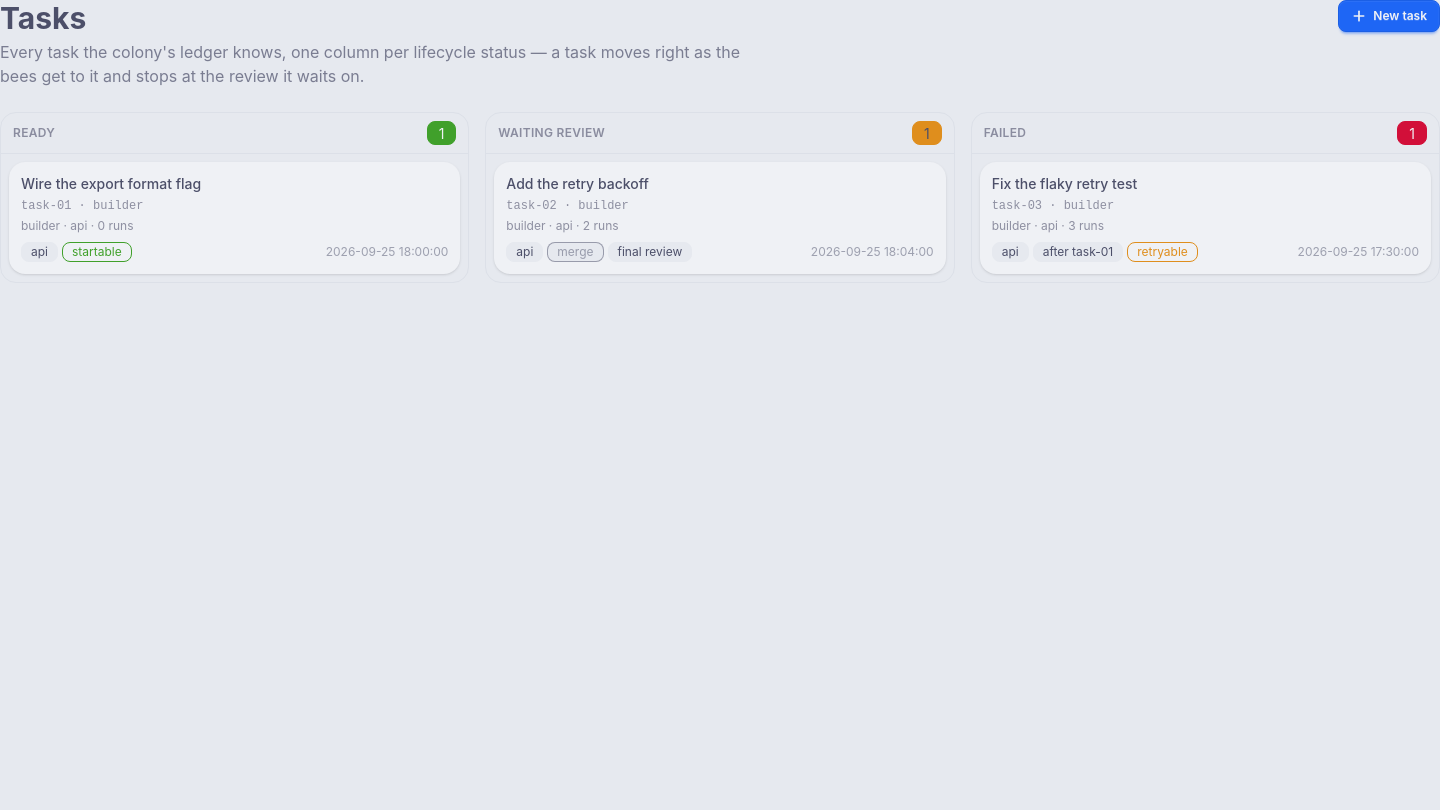
new task drawer › accepts a body with no title, because the server does
Expected: the element named "ready tasks" is shown, [0,112,469,283]
Click the button "New task" at (1389, 16), box [1338,0,1439,32]
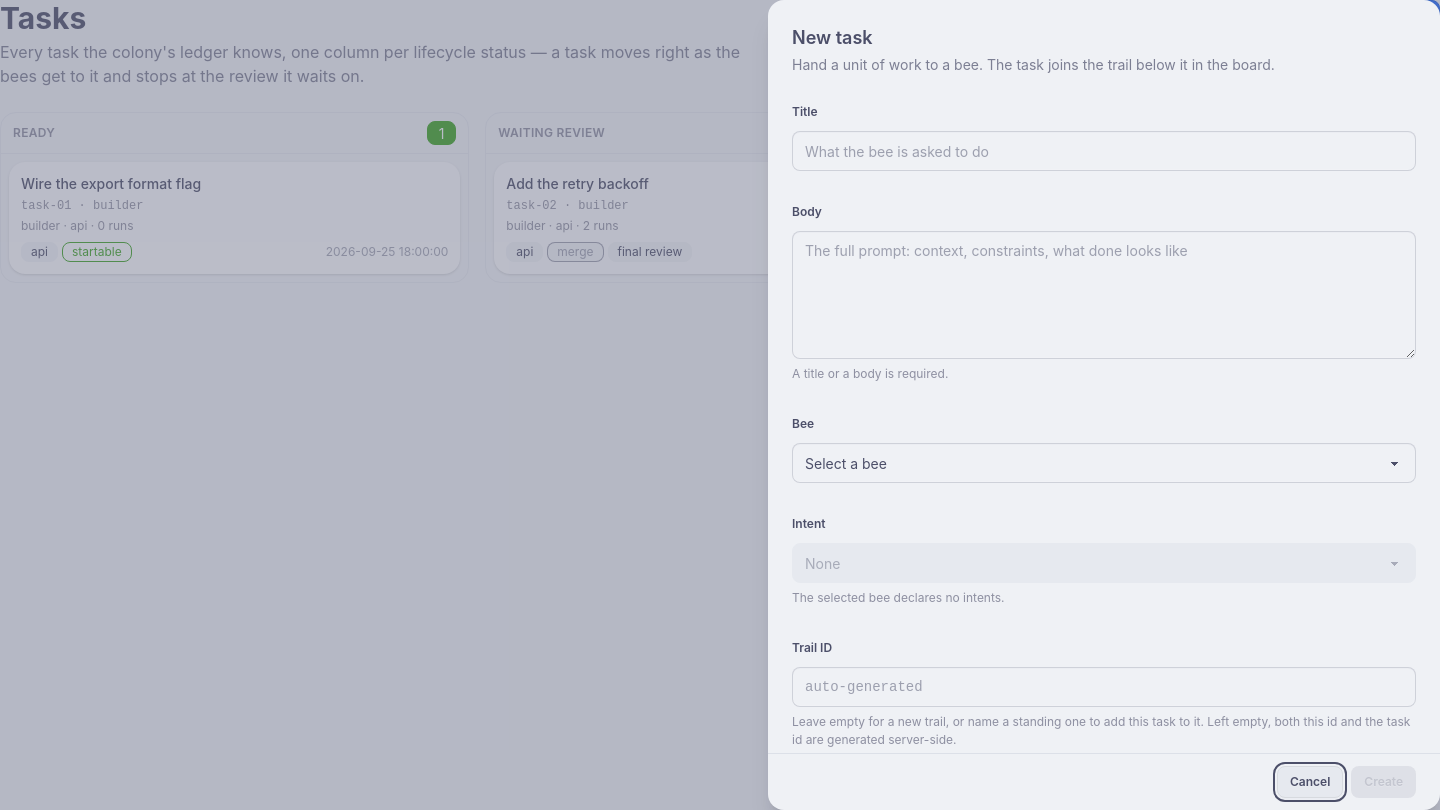
Now the dialog labelled "New task" is shown, box [768,0,1439,809]
Type "Fix the retry test." into the text box labelled "Body" at (1104, 295), box [792,231,1416,359]
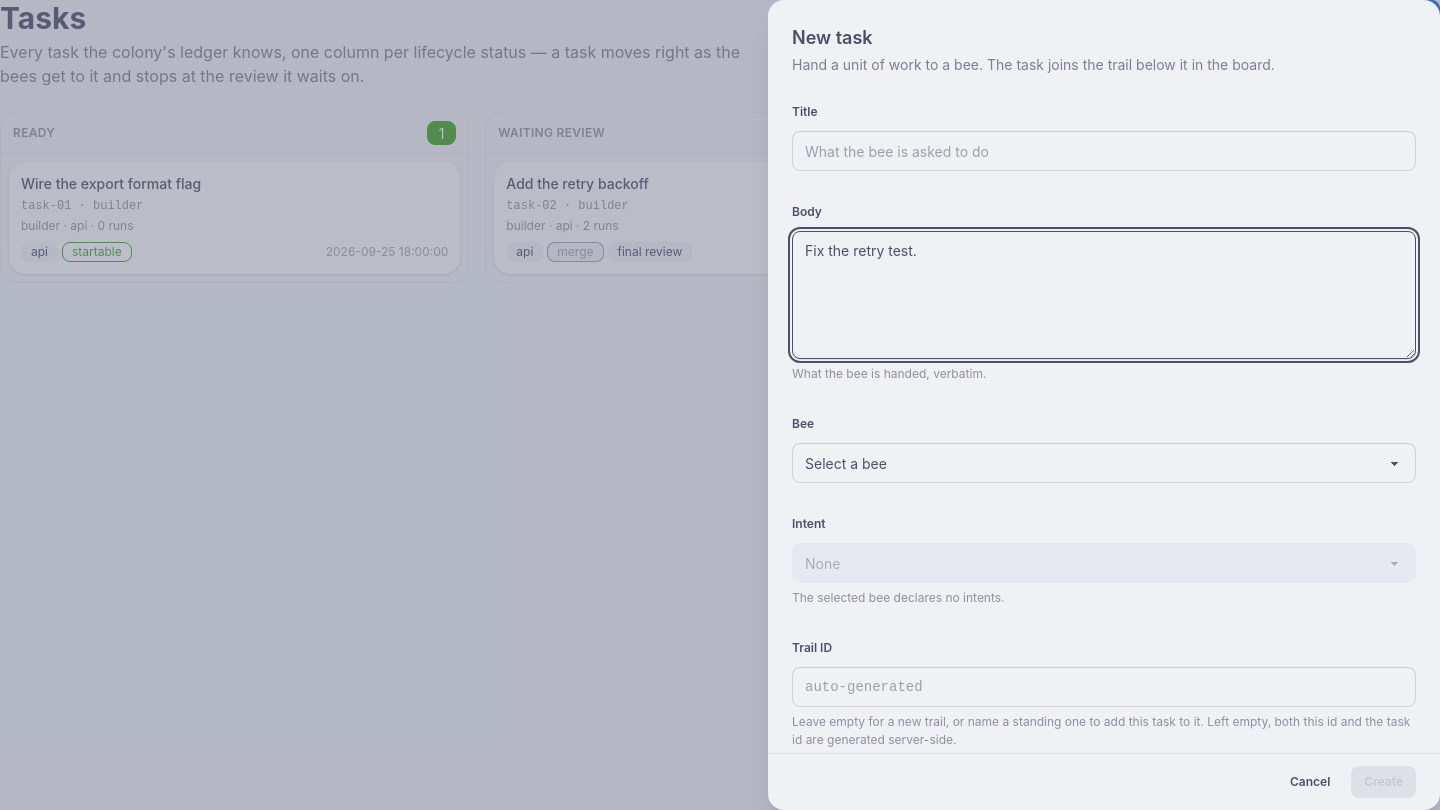
Select "builder — cursor" in the dropdown labelled "Bee" at (1104, 463), box [792,443,1416,483]
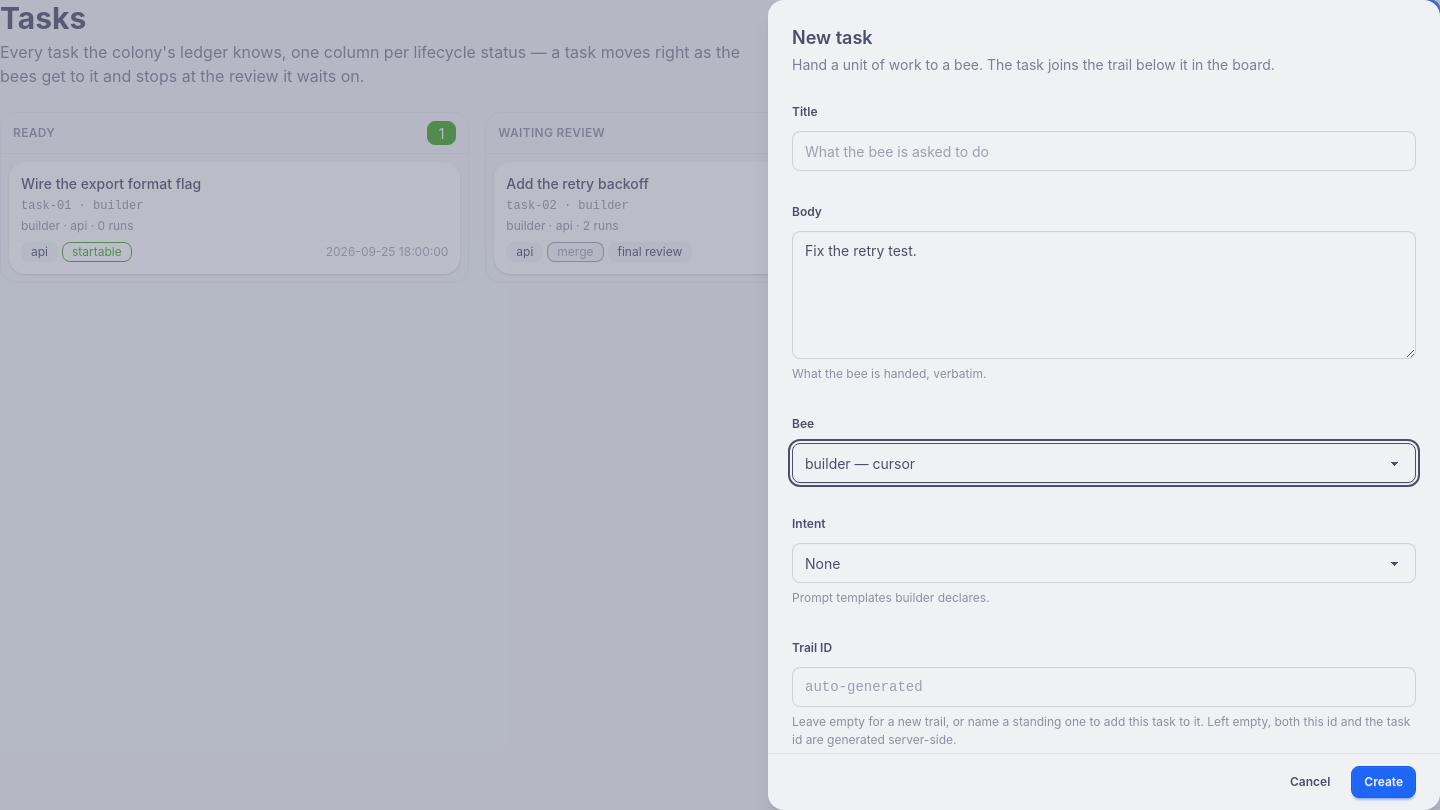
Now the button "Create" is enabled, box [1351,766,1416,798]
